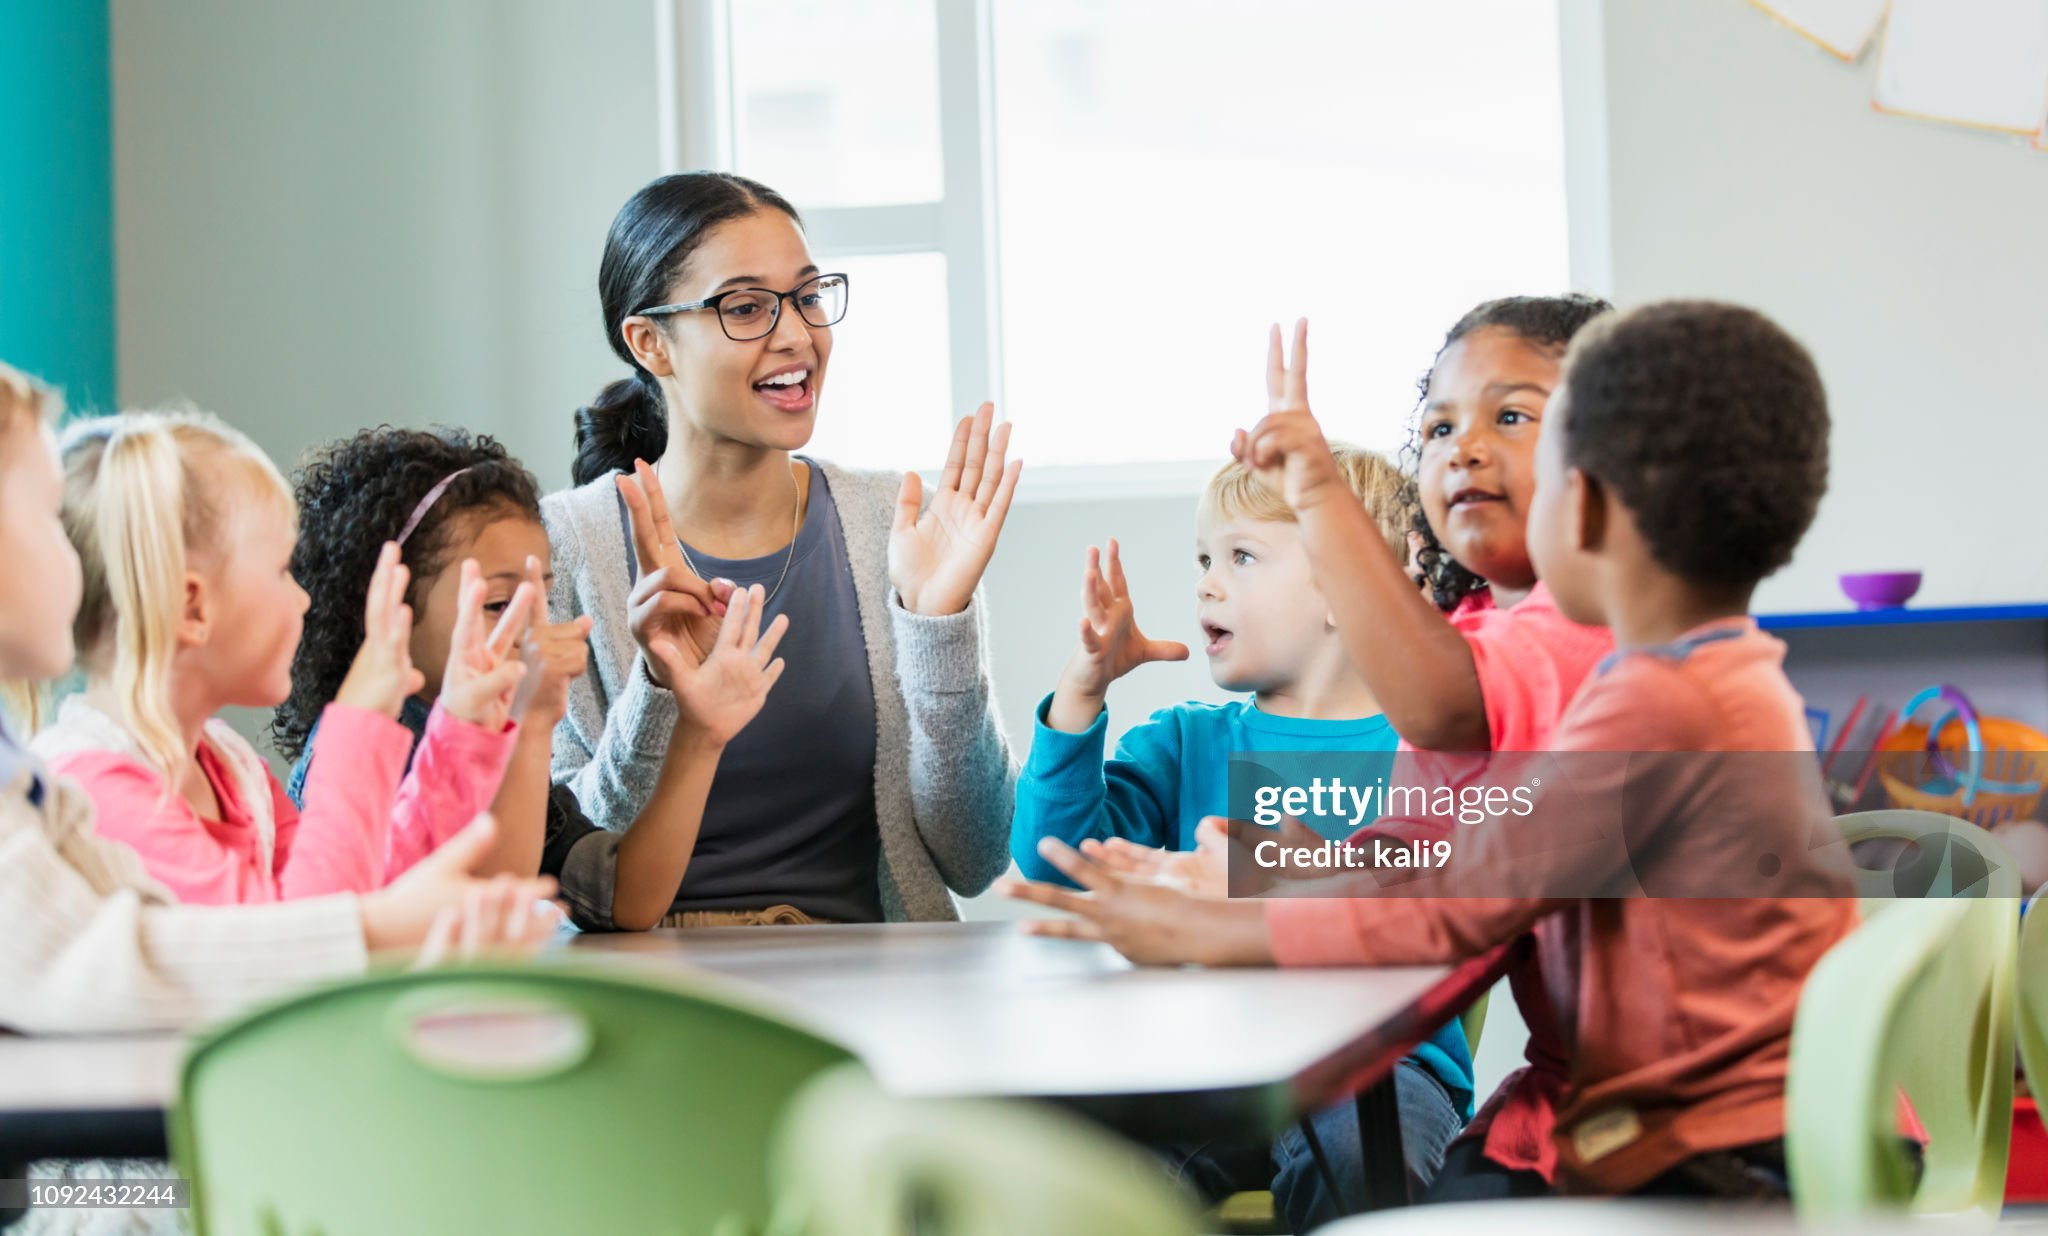entre-50-75-porcento: (0, 133, 1891, 1198)
